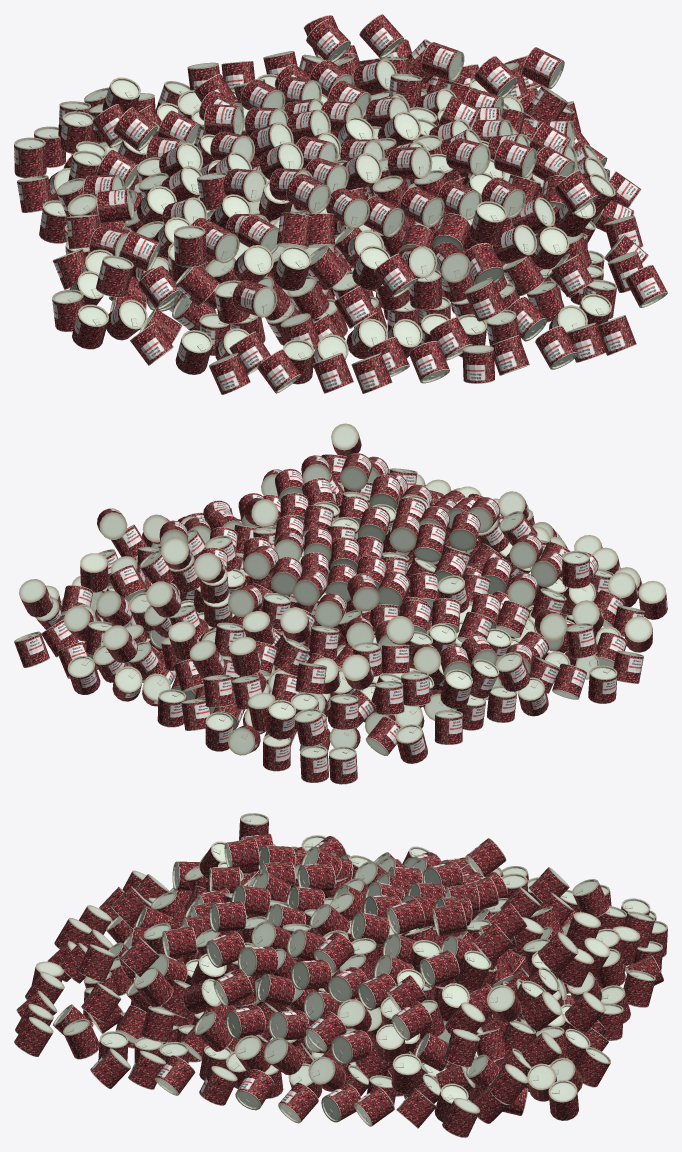
The model's file is Piled cans1.fbx.
The picture shows the model from 3 angles, top to bottom: view 1: azimuth 30°, elevation 25°; view 2: azimuth 150°, elevation 25°; view 3: azimuth 270°, elevation 25°; orthographic projection. The views are drawn at different scales.
Parts seen in each view (by area): view 1: Beans; view 2: Beans; view 3: Beans.
Boxes of the visible parts, bbox=[...] form: Beans: bbox=[14, 14, 667, 394]; Beans: bbox=[14, 423, 667, 784]; Beans: bbox=[14, 813, 667, 1137].
Size of the model in its own units: 691 by 168 by 723.
